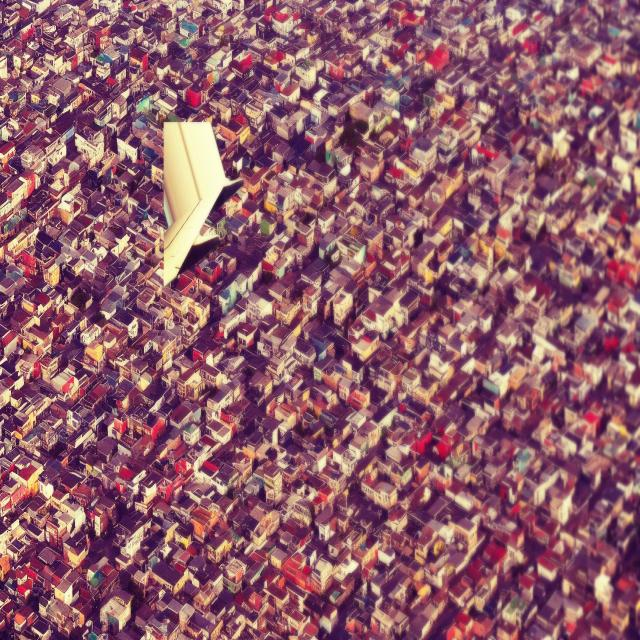airplane: (162, 119, 244, 288)
